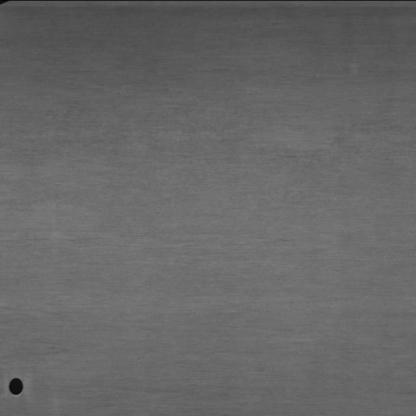punching_hole: (5, 375, 27, 397)
